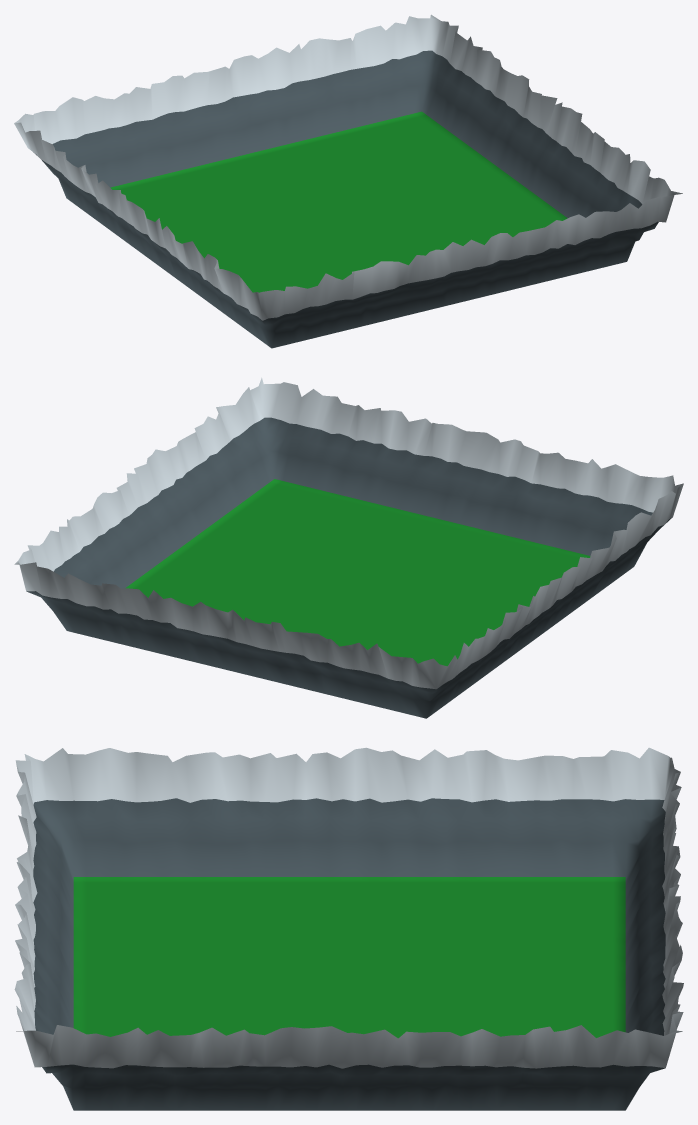
The model's file is cityFloorJapan.fbx.
3 renders of one model, top to bottom at view 1: azimuth 30°, elevation 25°; view 2: azimuth 150°, elevation 25°; view 3: azimuth 270°, elevation 25°, orthographic. The views are drawn at different scales.
Visible parts, largest first — view 1: Plane; view 2: Plane; view 3: Plane.
Boxes of the visible parts, bbox=[...] form: Plane: bbox=[14, 14, 682, 348]; Plane: bbox=[14, 377, 683, 718]; Plane: bbox=[14, 747, 683, 1110].
Bounding box in the file's own units: 10215 × 1811 × 10230.
